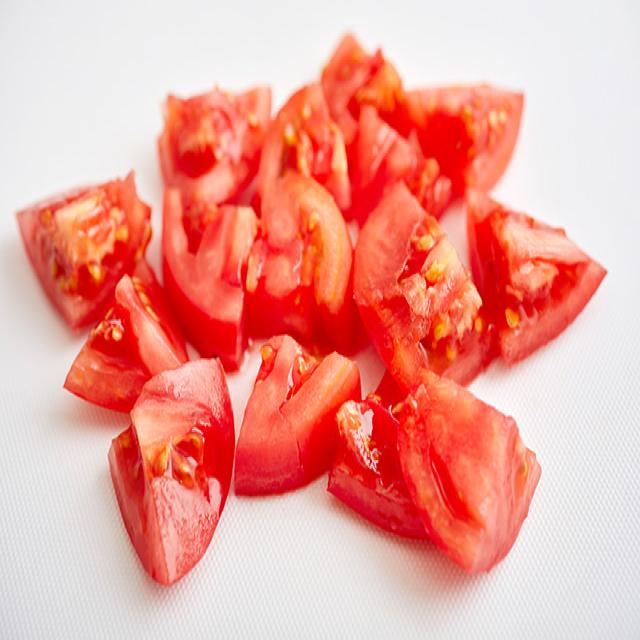Tomato: (98, 346, 239, 596), (389, 362, 544, 583), (349, 178, 496, 400), (464, 171, 612, 371), (13, 170, 157, 340), (59, 252, 205, 418), (234, 334, 361, 516), (252, 158, 356, 359), (322, 364, 434, 550), (161, 177, 259, 376)
